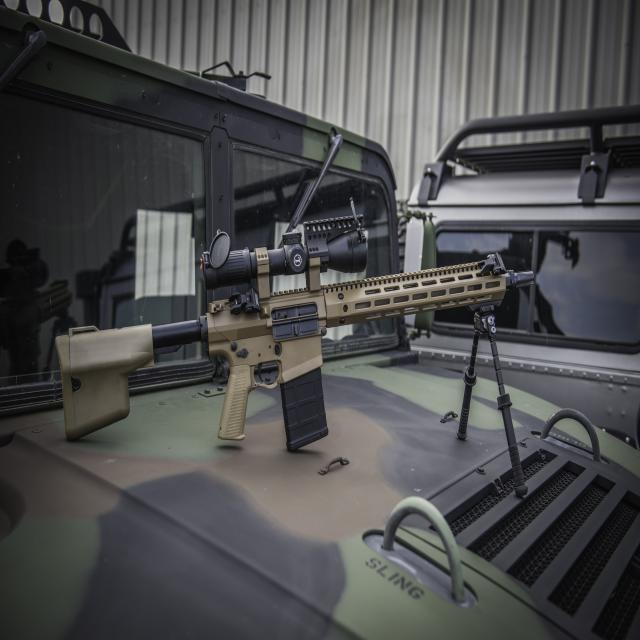Rifle: (58, 232, 510, 452)
